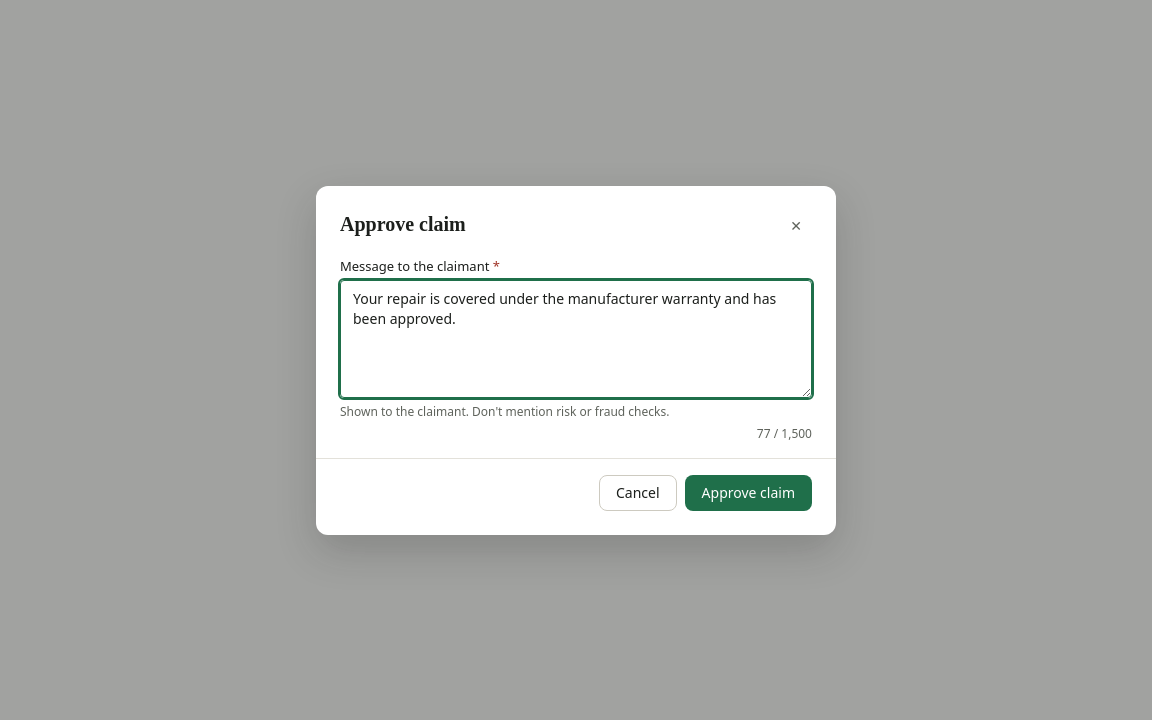
Scenario: ReviewDecisionForm › shows a 400 disclosure-term error on the message field
Click the button "Approve claim" at (748, 492), box top-left (685, 474), bottom-right (812, 510)
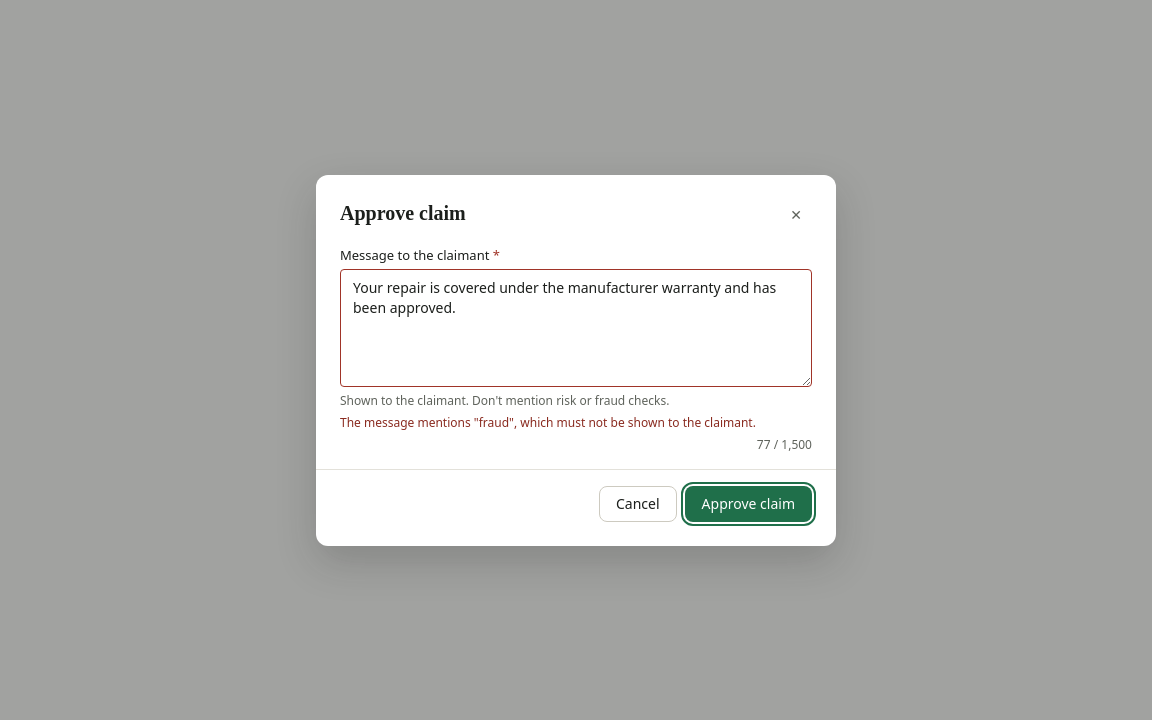
Now the text "mentions \"fraud\"" is shown, box top-left (340, 414), bottom-right (756, 430)
